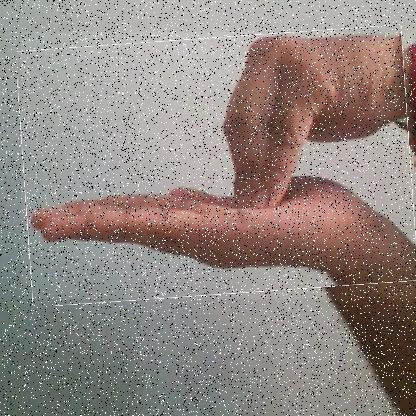Z: (20, 32, 414, 300)
